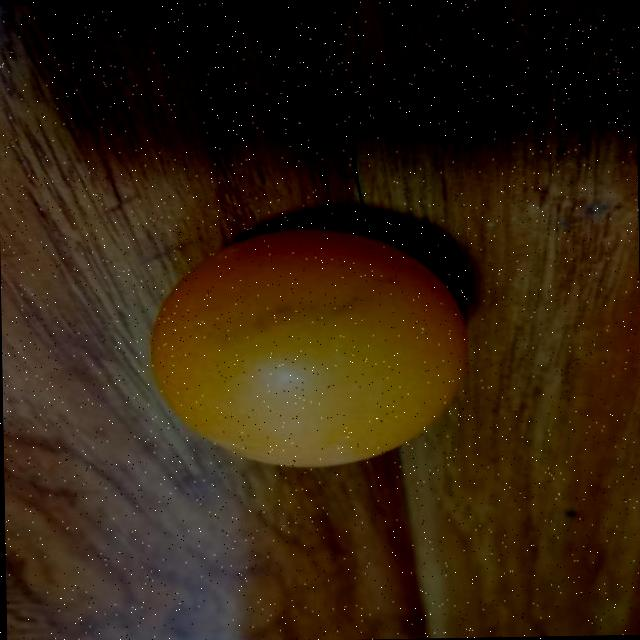ping-pong-ball: (152, 226, 470, 470)
